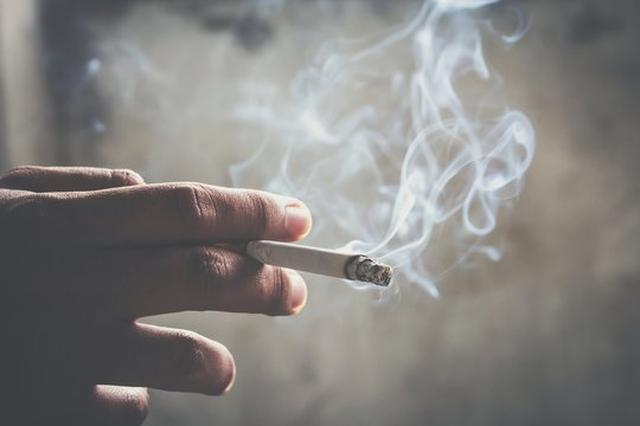Cigarette: (244, 238, 393, 288)
